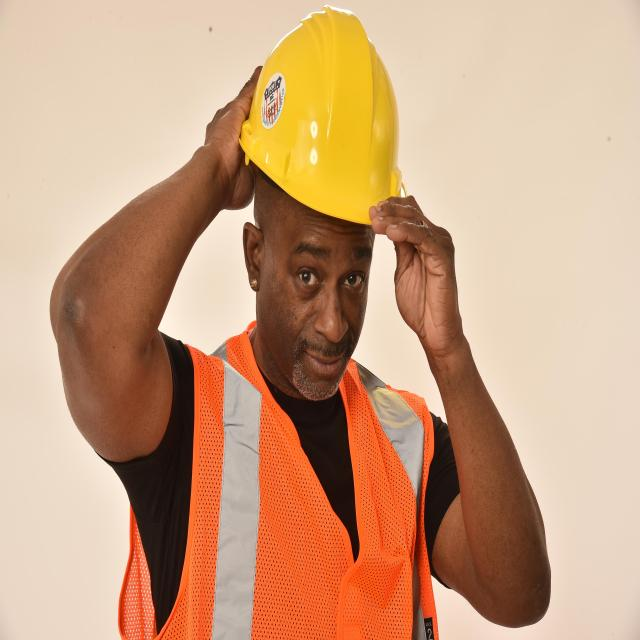helmet: (237, 3, 408, 231)
no-goggles: (249, 234, 381, 306)
vest: (118, 317, 438, 640)
